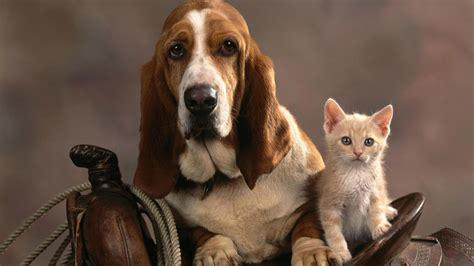cat: (318, 97, 397, 263)
dog: (135, 1, 340, 266)
